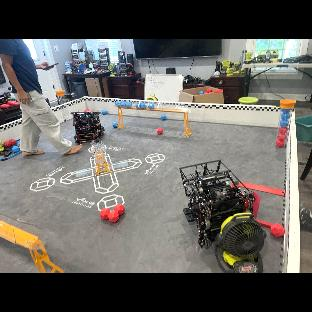V5_BLUE: (161, 114, 168, 121), (112, 122, 119, 129), (12, 147, 20, 153), (101, 109, 107, 115), (199, 91, 204, 95)
V5_RED: (269, 223, 285, 238), (98, 206, 109, 221), (108, 210, 120, 223), (113, 203, 126, 215), (156, 127, 164, 136), (9, 138, 17, 146), (3, 141, 12, 147), (207, 88, 212, 93), (84, 109, 90, 112), (204, 92, 208, 94)
blueingoal: (139, 102, 147, 109), (126, 101, 133, 108), (149, 102, 156, 109), (135, 102, 141, 109), (121, 101, 126, 108), (116, 102, 120, 107)
blueinloader: (280, 119, 289, 127), (282, 113, 291, 119), (281, 108, 291, 113)
redloader: (277, 133, 289, 140), (278, 126, 288, 134), (275, 140, 284, 147)
